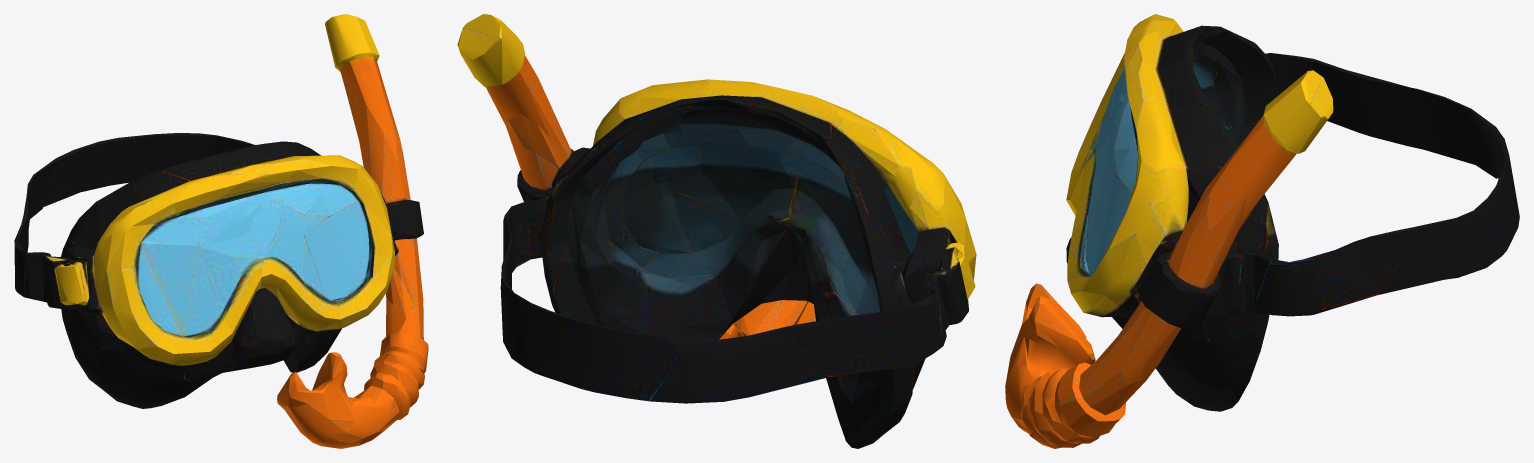
File: snorkel-mask.glb
The picture shows the model from 3 angles, left to right: view 1: azimuth 30°, elevation 25°; view 2: azimuth 150°, elevation 25°; view 3: azimuth 270°, elevation 25°; orthographic projection. The views are drawn at different scales.
Bounding box in the file's own units: 1.89 × 1.65 × 1.85.
Materials: 1 (1 with a texture image).
